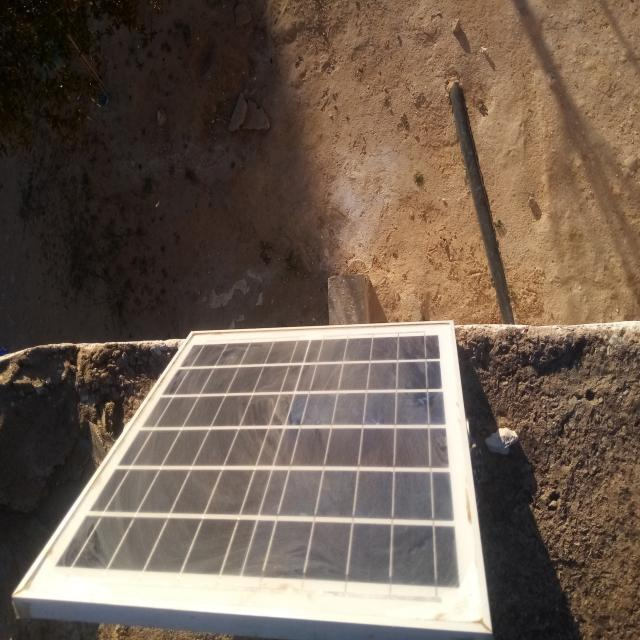faulty: (14, 322, 488, 630)
